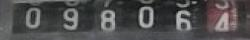digits: (213, 11, 233, 34), (62, 7, 79, 29), (138, 5, 153, 28), (175, 10, 192, 30), (100, 8, 115, 30), (24, 7, 40, 27)
